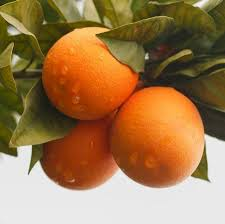orange: (104, 83, 204, 185), (39, 24, 141, 116), (31, 105, 122, 193)
